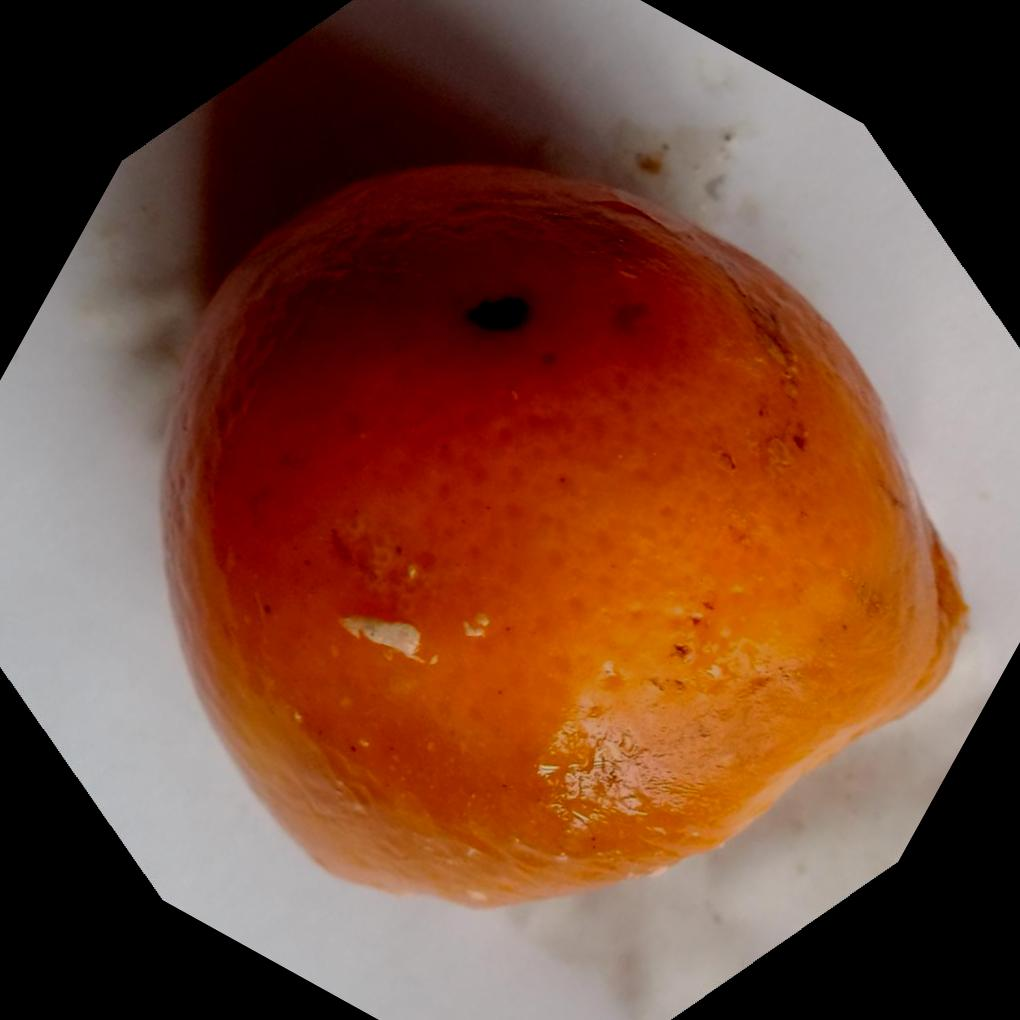FreshOrange: (159, 157, 969, 909)
